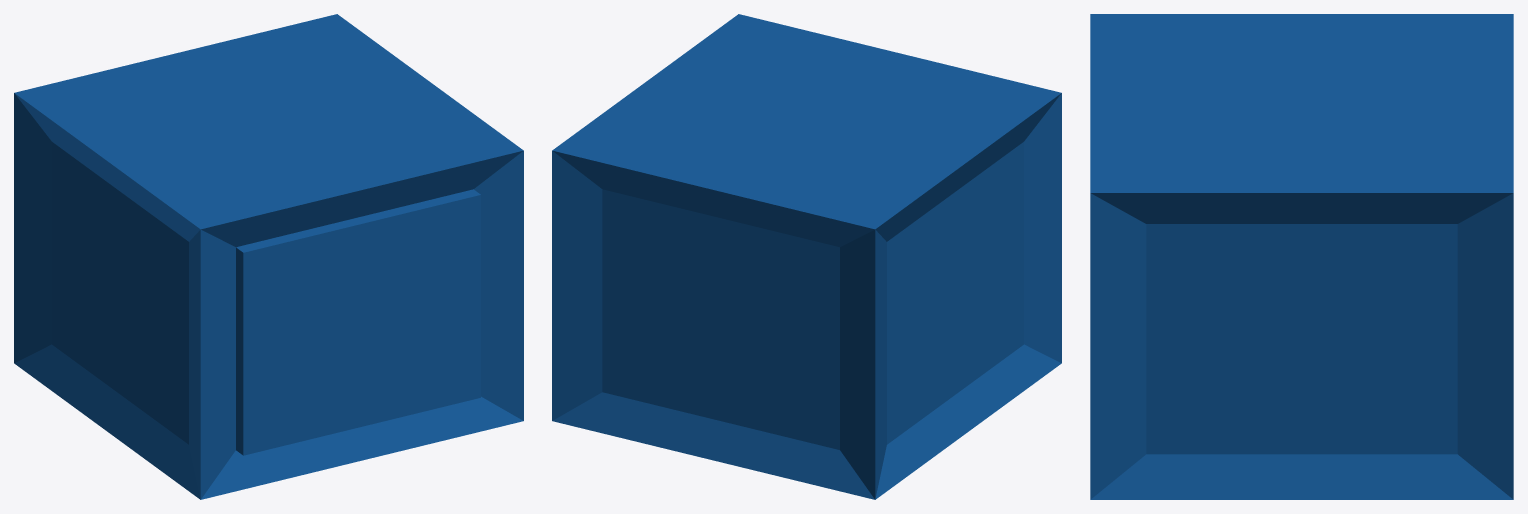
File: Delayer.obj
3 views of the same model, side by side, from view 1: azimuth 30°, elevation 25°; view 2: azimuth 150°, elevation 25°; view 3: azimuth 270°, elevation 25° (orthographic). The views are drawn at different scales.
Visible parts, largest first — view 1: Handle; view 2: Handle; view 3: Handle.
Boxes of the visible parts, x1,y1,x2,y2 form: Handle: (14,14,523,499); Handle: (552,14,1061,499); Handle: (1090,14,1513,499).
Size of the model in its own units: 0.6 by 0.48 by 0.6.
